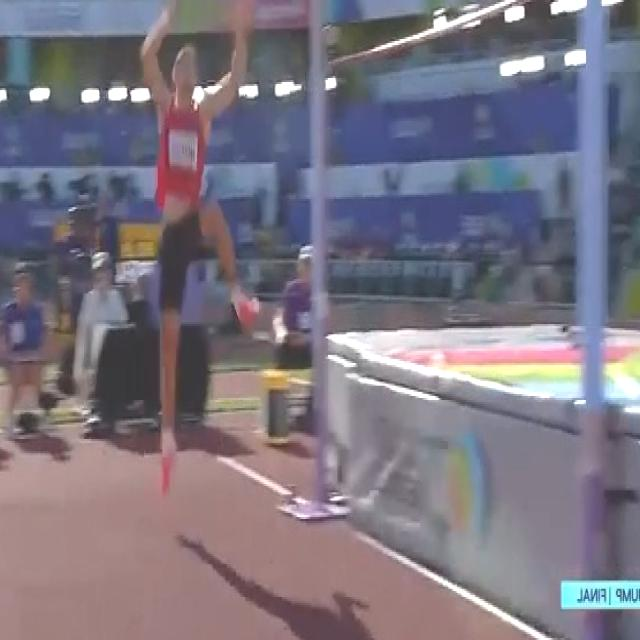jump: (142, 0, 264, 494)
